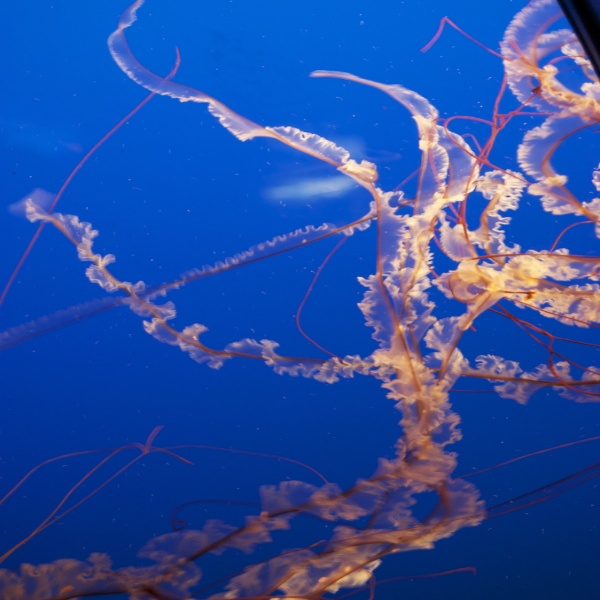Jellyfish: (0, 0, 597, 599)
